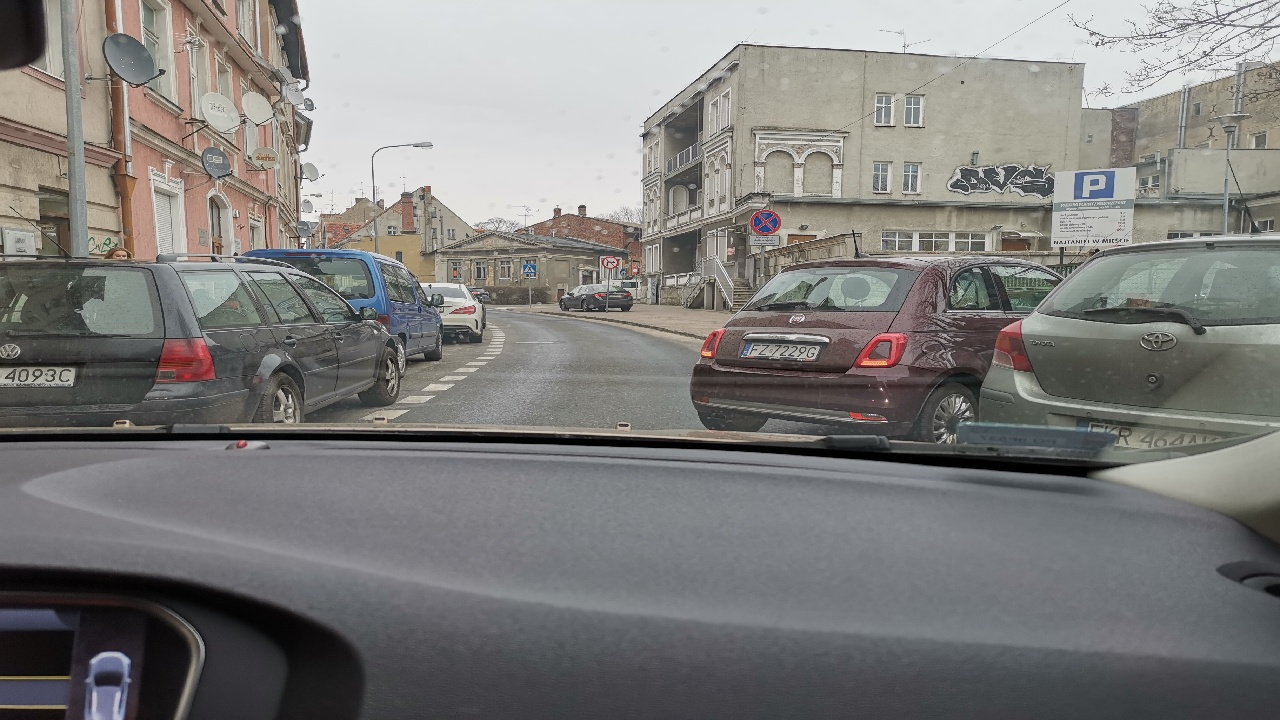B36: (750, 209, 781, 235)
D18: (1075, 171, 1114, 199)
